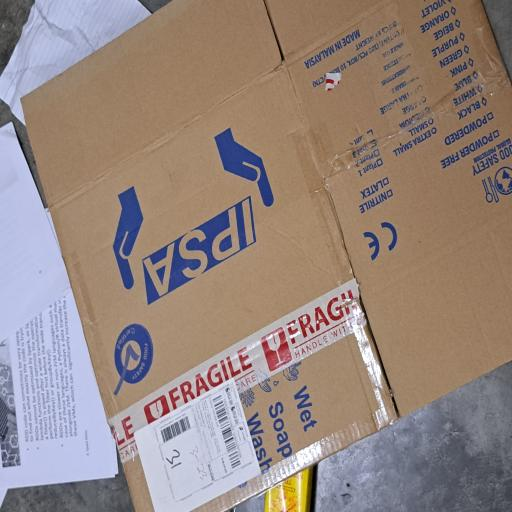cardboard: (0, 25, 384, 512)
paper: (0, 0, 294, 157), (290, 0, 384, 206)
